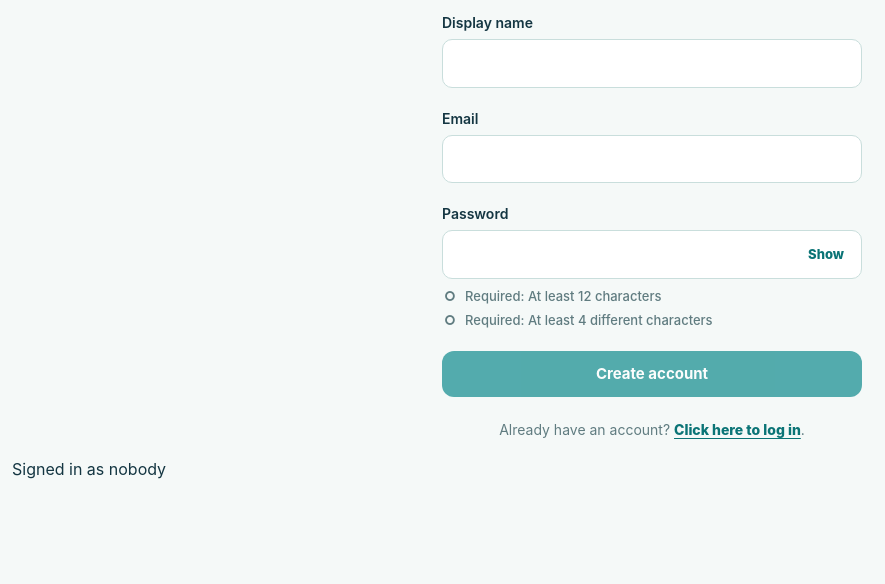
Test: Register — failed submission › explains a duplicate email without exposing the response detail
This screenshot has width=885, height=584.
In the field labelled "Display name": (652, 63) [442,39,862,88], type "Sam Observer"
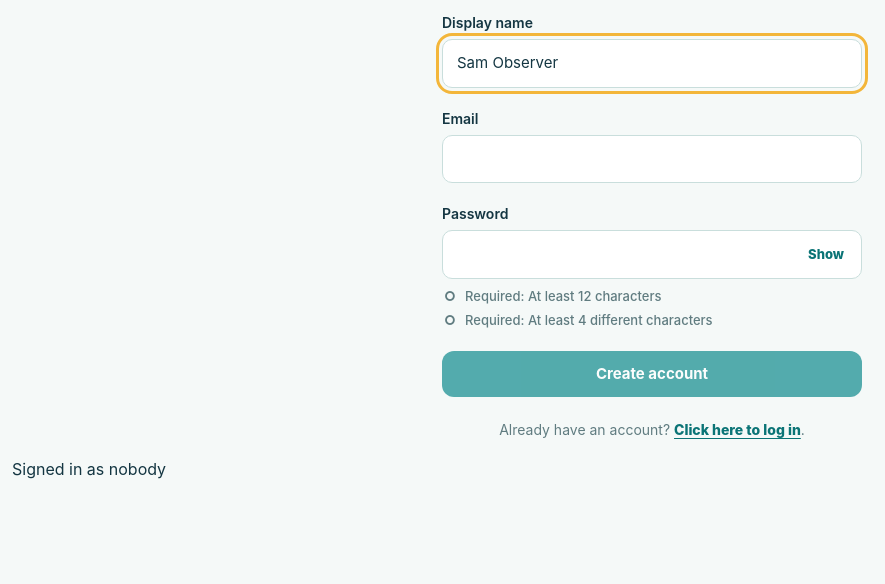
In the field labelled "Email": (652, 159) [442,134,862,183], type "observer@example.org"
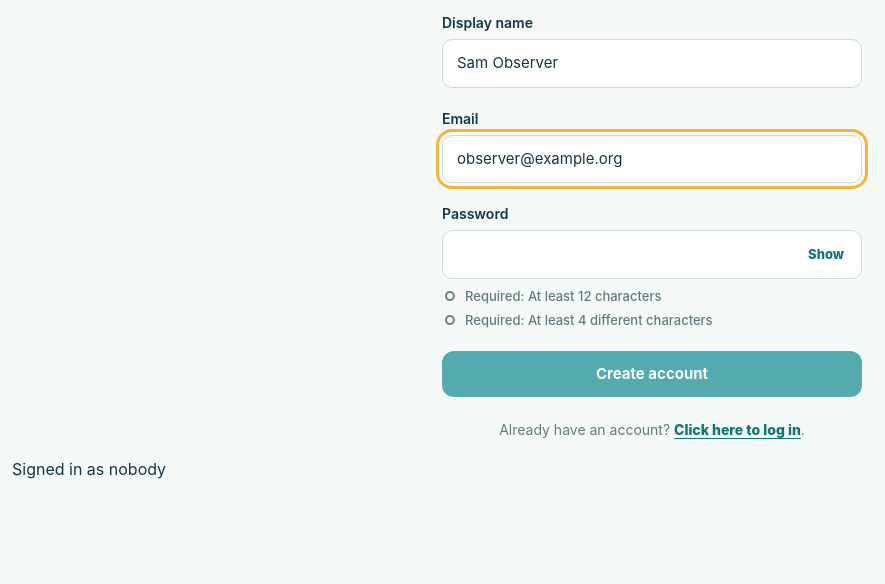
In the password field labelled "Password": (652, 254) [442,230,862,278], type "correct-horse-battery"
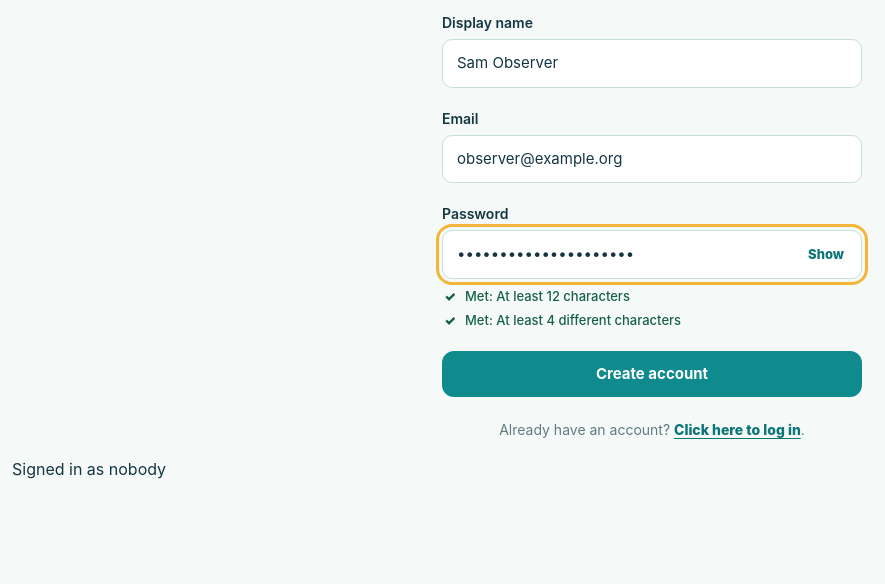
Click the button "Create account": (652, 374) [442,350,862,397]
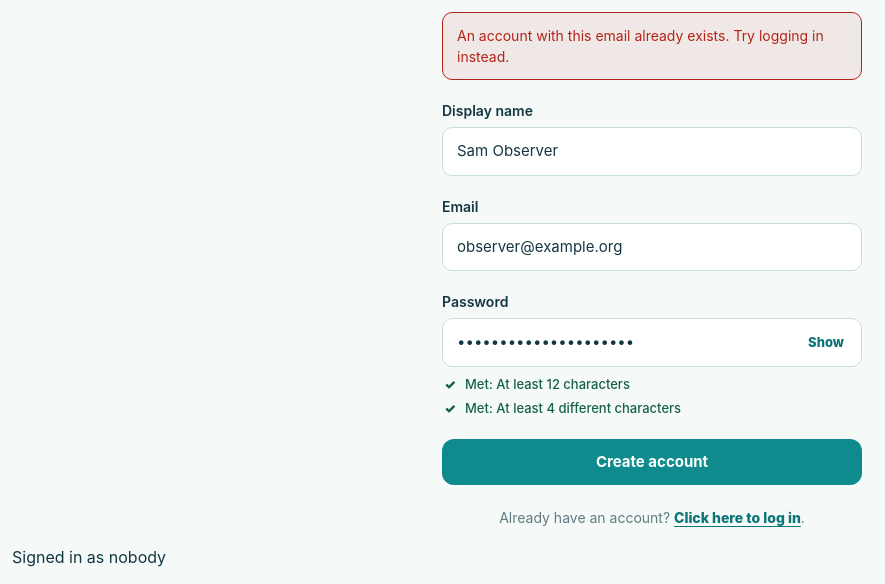
Expected: the message reads "An account with this email already exists. Try logging in instead.", [457,27,824,65]
